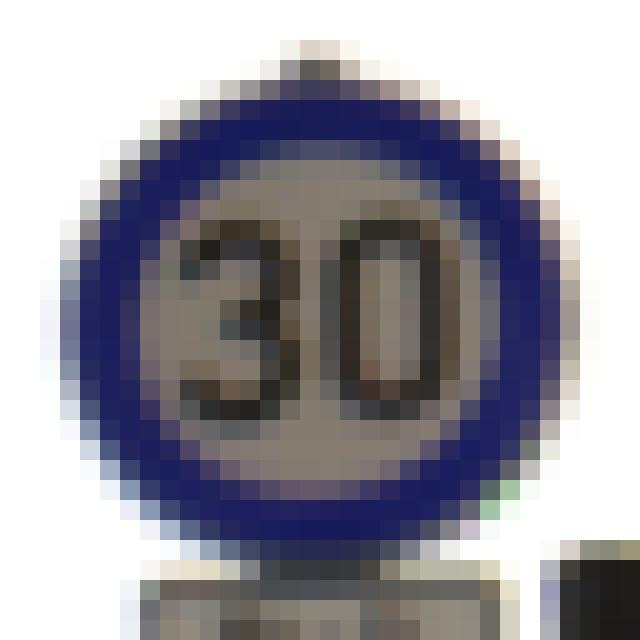SPEED LIMIT 30: (114, 132, 522, 544)
